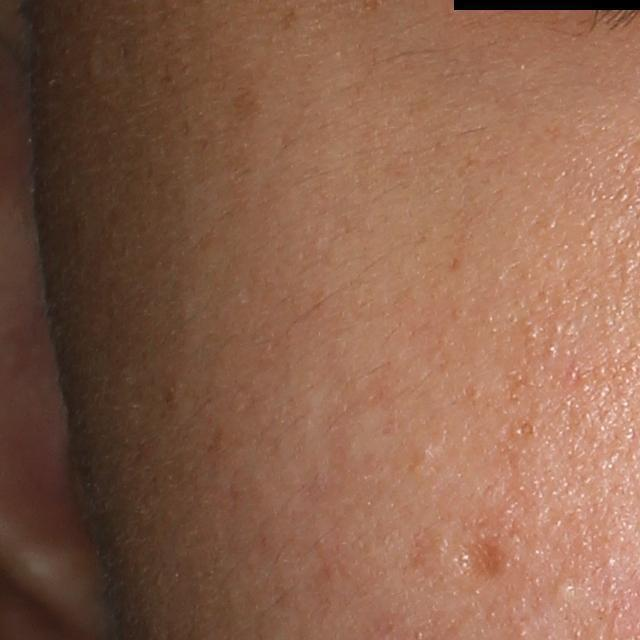comedo: (548, 574, 578, 605)
melasma: (228, 83, 268, 127), (275, 5, 302, 34)
other: (452, 530, 511, 585)
